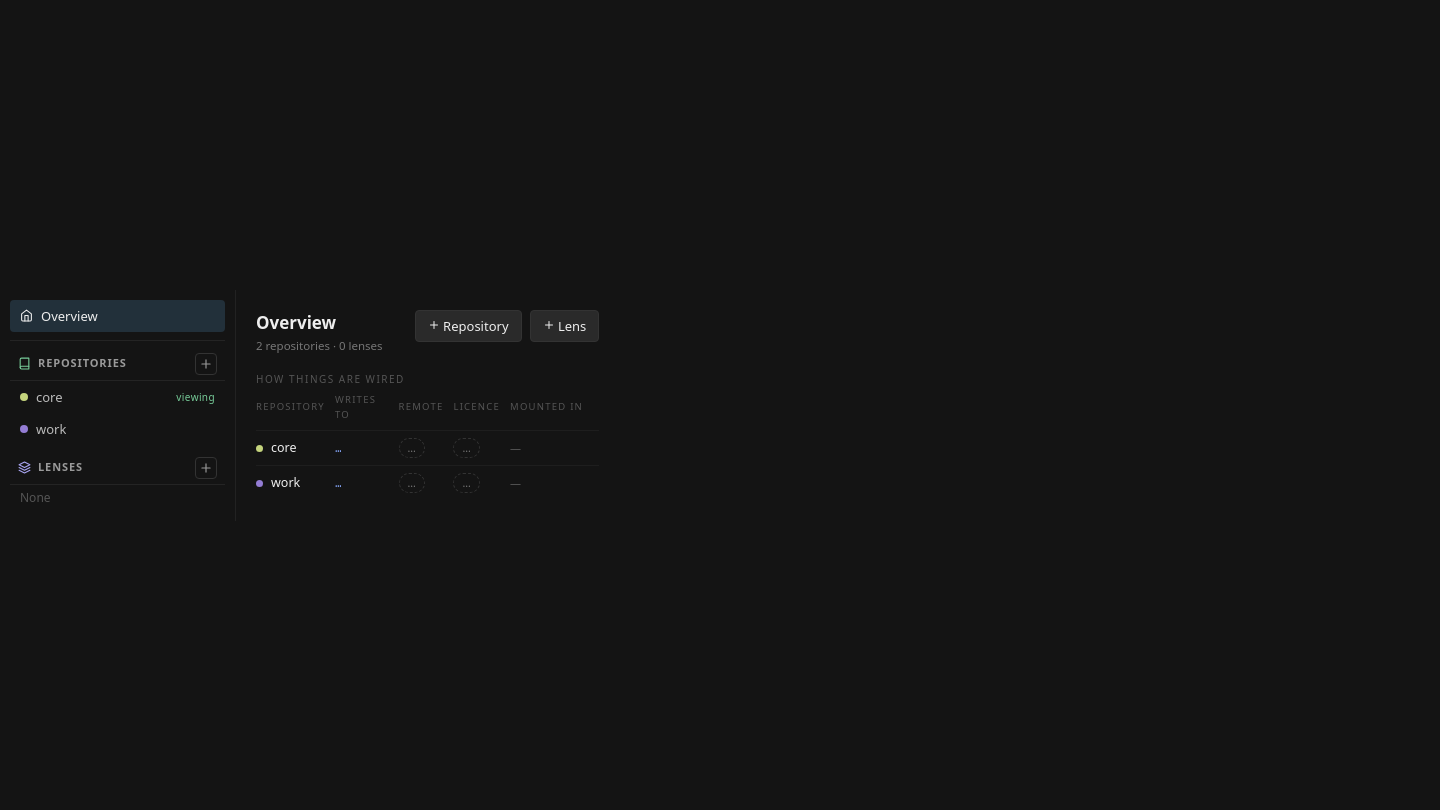
Scenario: Mounted in › has no block when no lens references the repo
Click the button with test id "repomgr-item-core" at (118, 396), box [10,380,225,412]
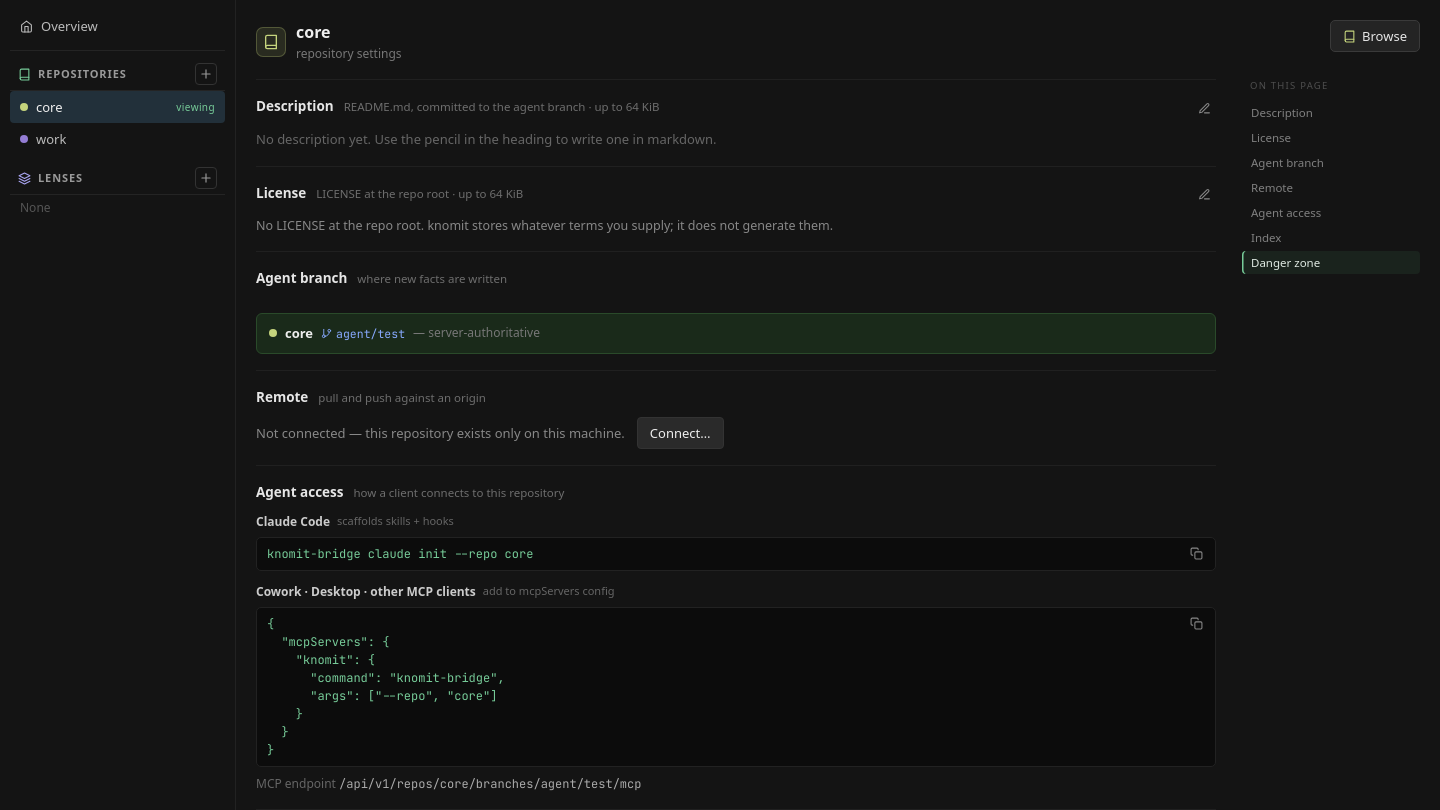
Expected: the element with test id "block-agent-branch" is shown, [256,251,1216,354]
